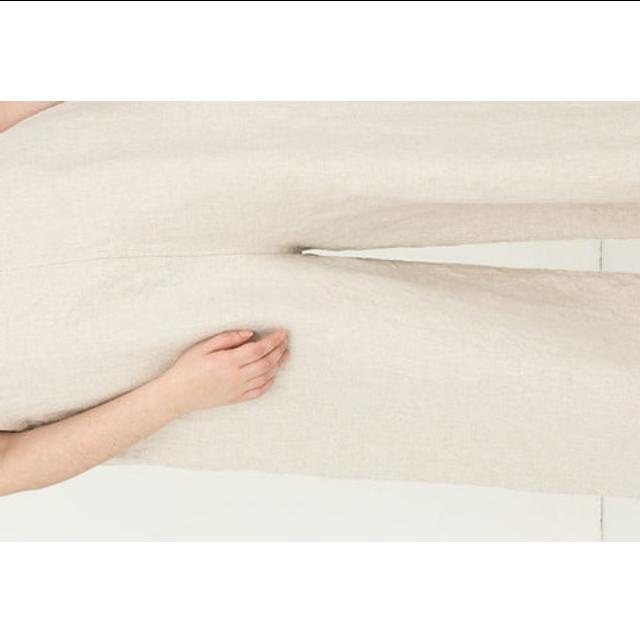linen: (0, 99, 640, 481)
